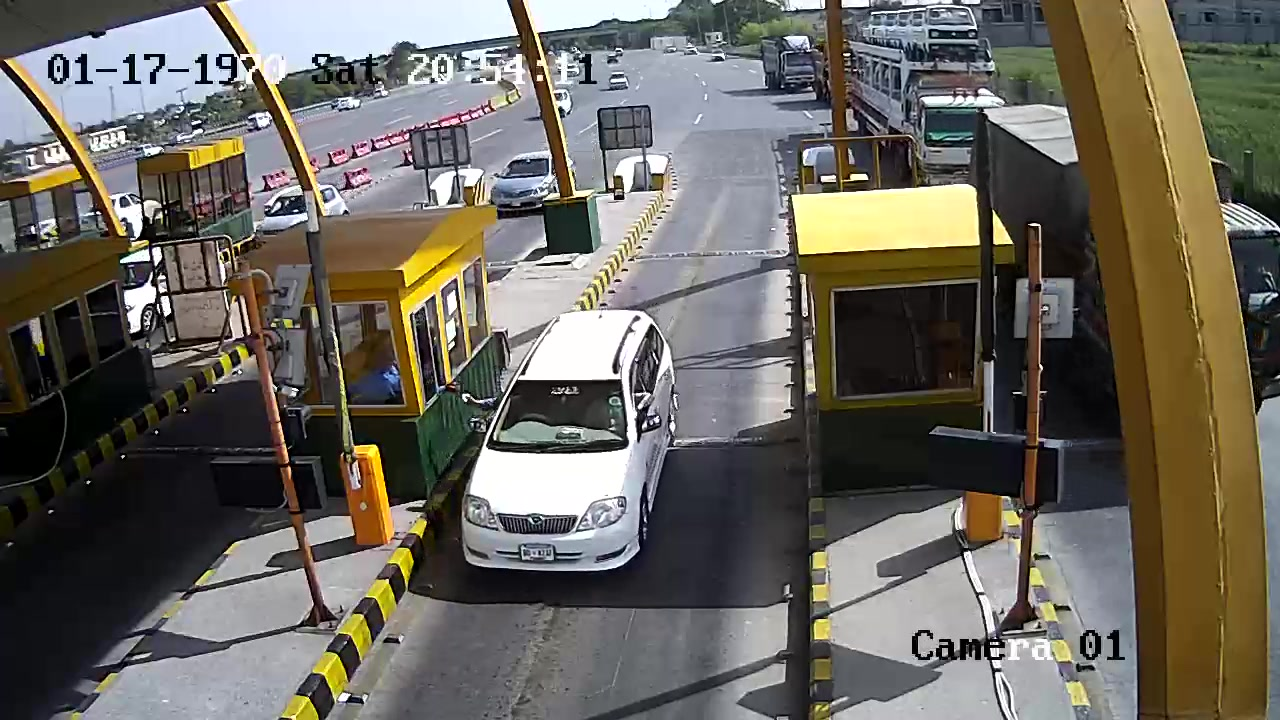F1: (454, 299, 702, 585)
